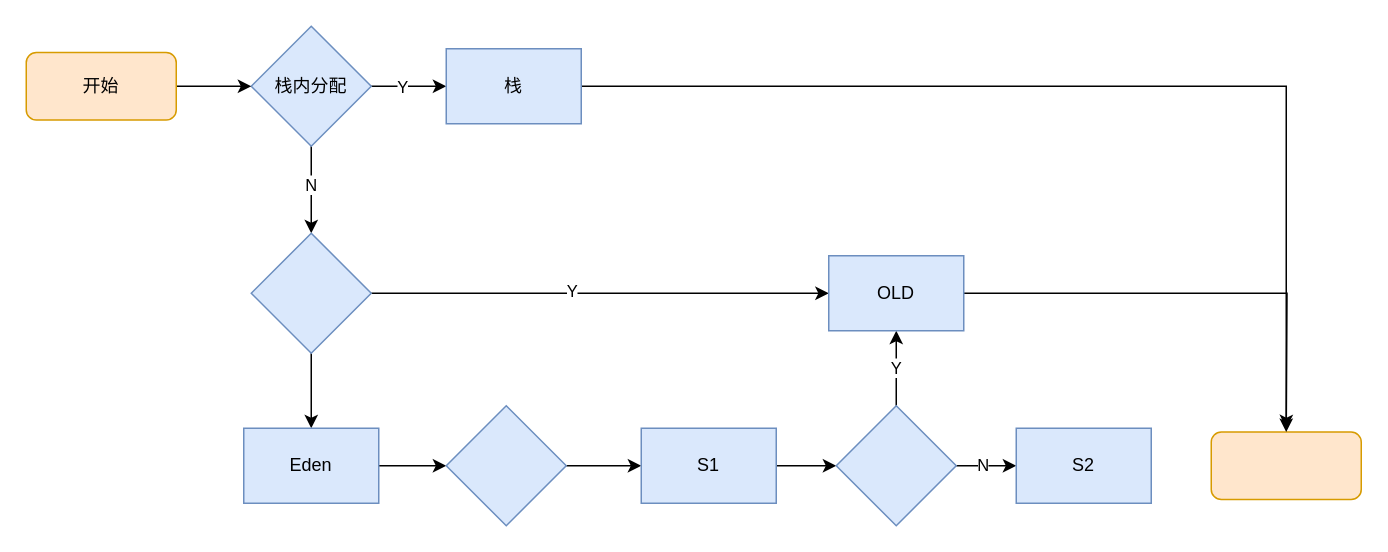
The diagram is 1388 pixels wide and 552 high, and some of its shapes have lost their labels. Here are the shapes that lost their labels. From the top down, the centre of each, then its label:
the point at 310,292: 大对象
the point at 505,465: Minor GC
the point at 895,465: AGE
the point at 1285,465: 结束
